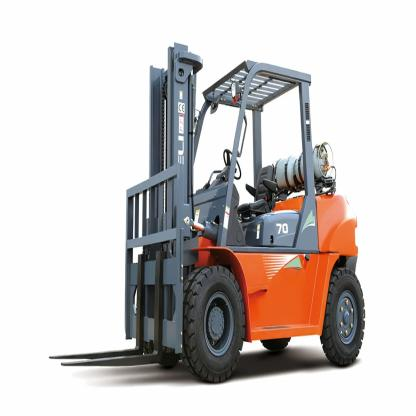forklift: (46, 40, 366, 386)
